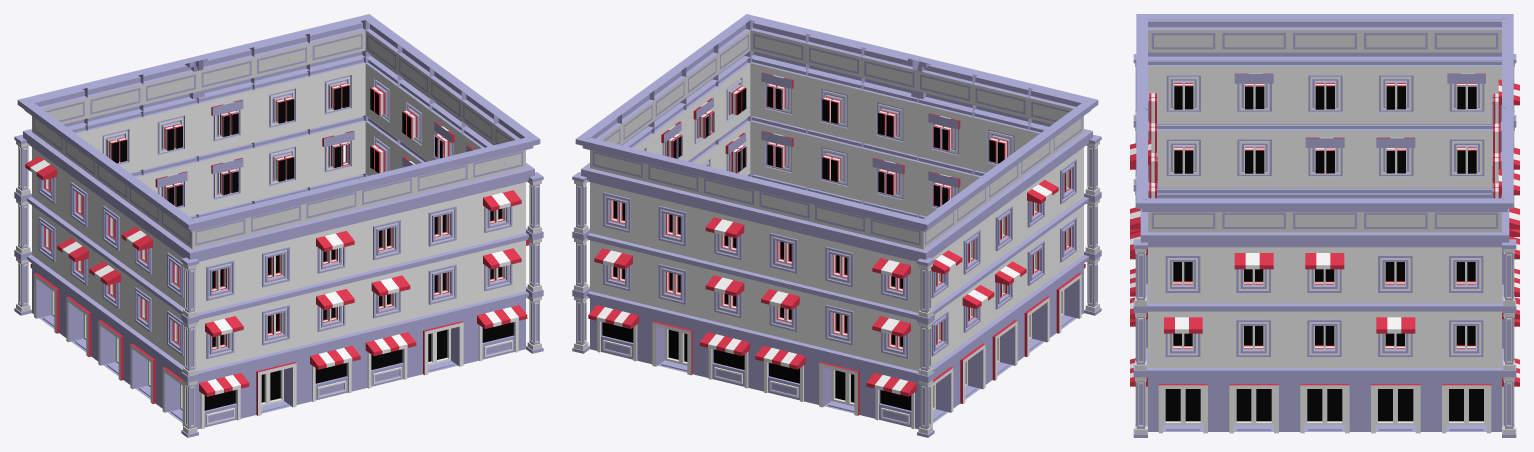
Rendered from 3floor6x.fbx.
The picture shows the model from 3 angles, left to right: view 1: azimuth 30°, elevation 25°; view 2: azimuth 150°, elevation 25°; view 3: azimuth 270°, elevation 25°; orthographic projection. The views are drawn at different scales.
Parts seen in each view (by area): view 1: Roof.087; view 2: Roof.087; view 3: Roof.087.
Part boxes in pixels (x1,y1,x2,y2): Roof.087: (14,14,543,437); Roof.087: (572,14,1101,437); Roof.087: (1130,14,1519,437).
Bounding box in the file's own units: 650 × 364 × 550.
